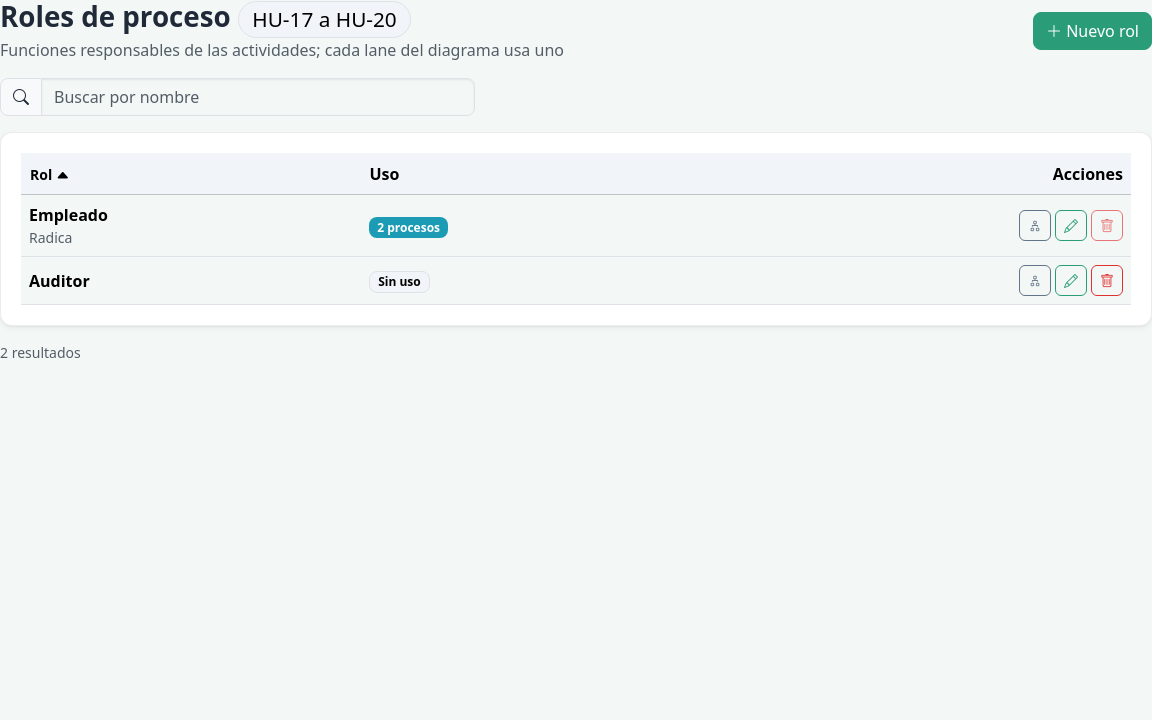
it: RolesProcesoComponent (HU-17 a HU-20) › si la API rechaza la eliminación (rol que pasó a estar en uso) muestra los procesos
The image size is (1152, 720).
Click the button named "Eliminar Auditor": (1107, 281) [1091,265,1123,296]
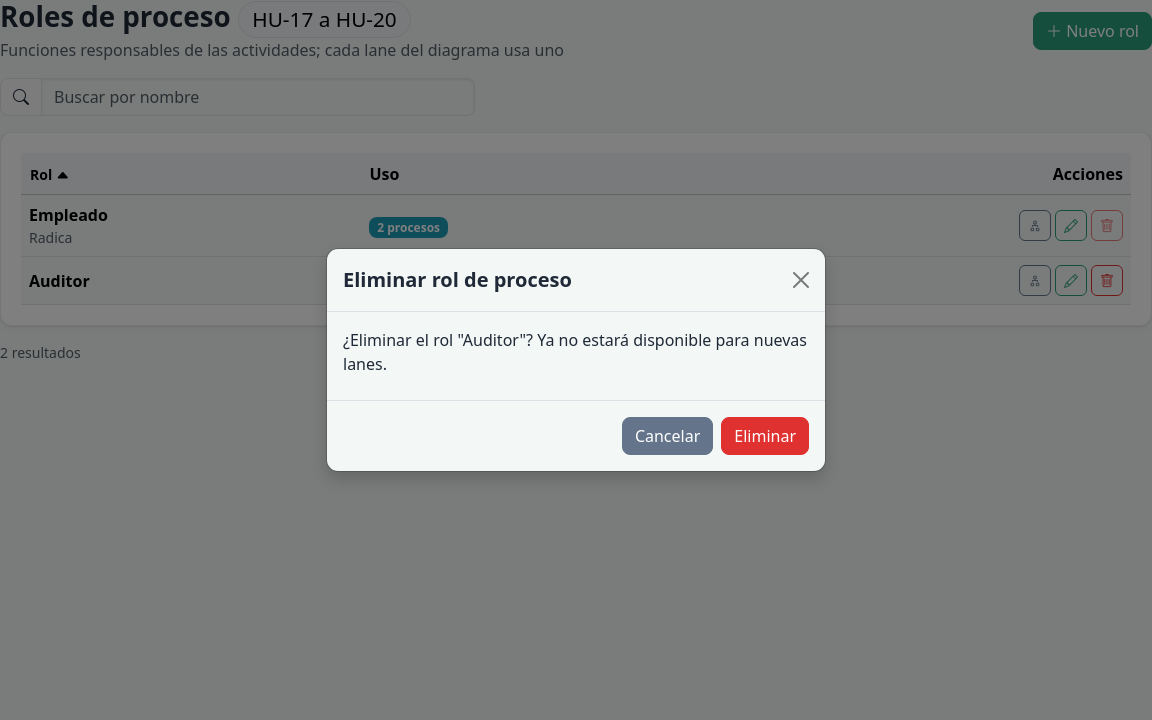
Click the button with id "confirmarEliminarBtn": (765, 436) [721,417,809,455]
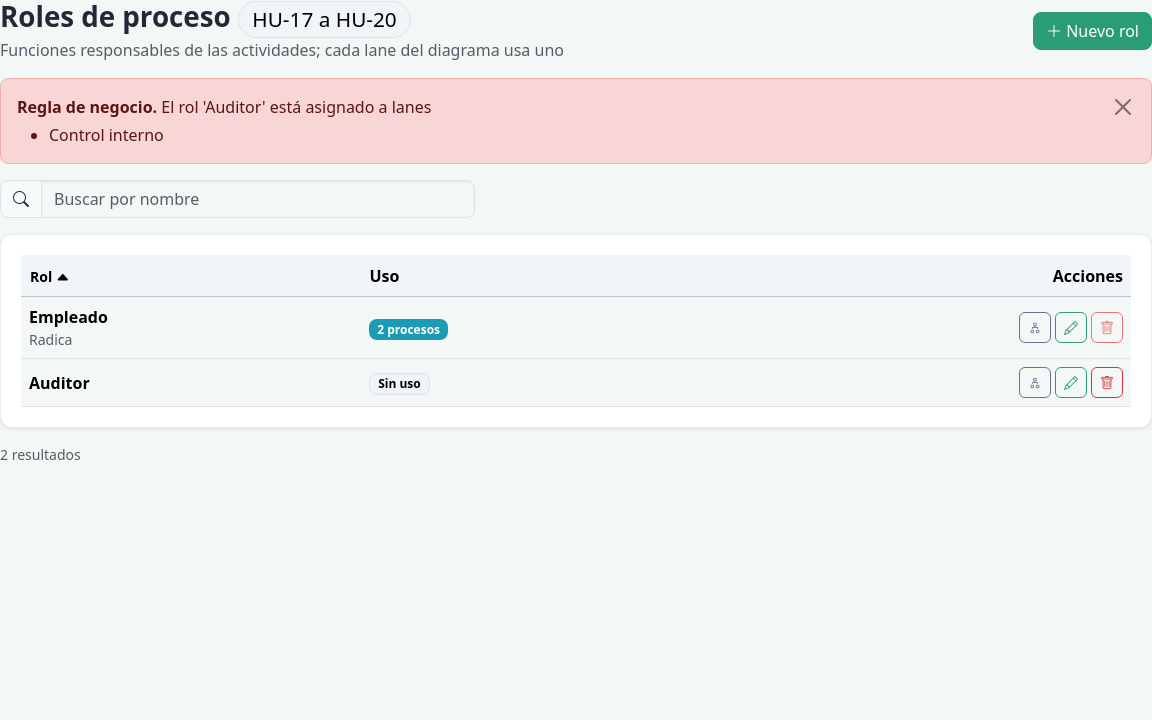
Check: the text "Control interno" is shown, box [49,124,164,146]
